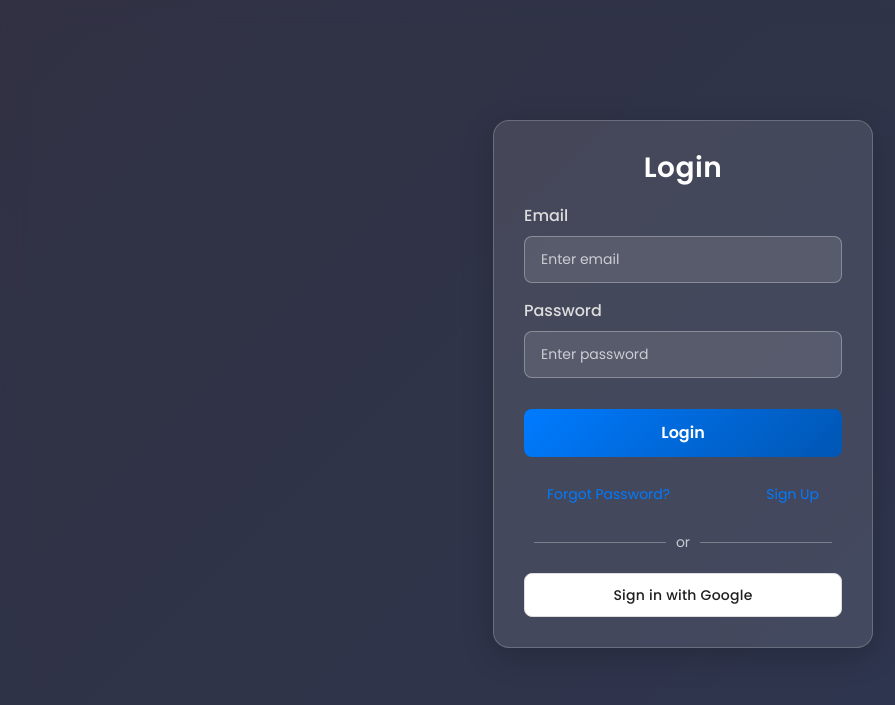
Scenario: Login Component › displays error message on invalid credentials
The image size is (895, 705).
Type "test@example.com" into the field with placeholder "Enter email" at (683, 260), box [524,236,842,283]
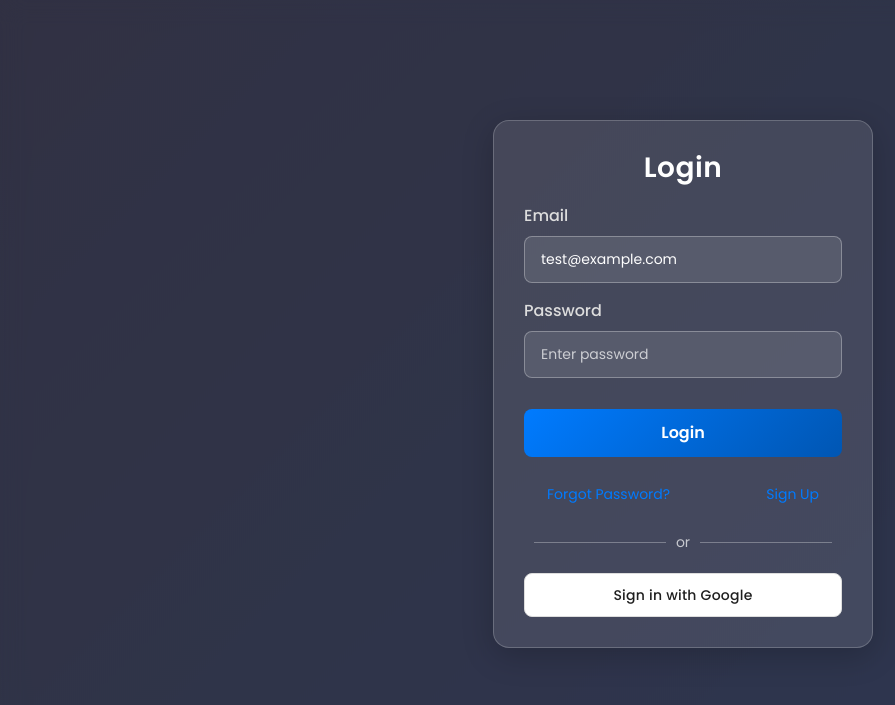
Type "wrongpass" into the password field with placeholder "Enter password" at (683, 355), box [524,331,842,378]
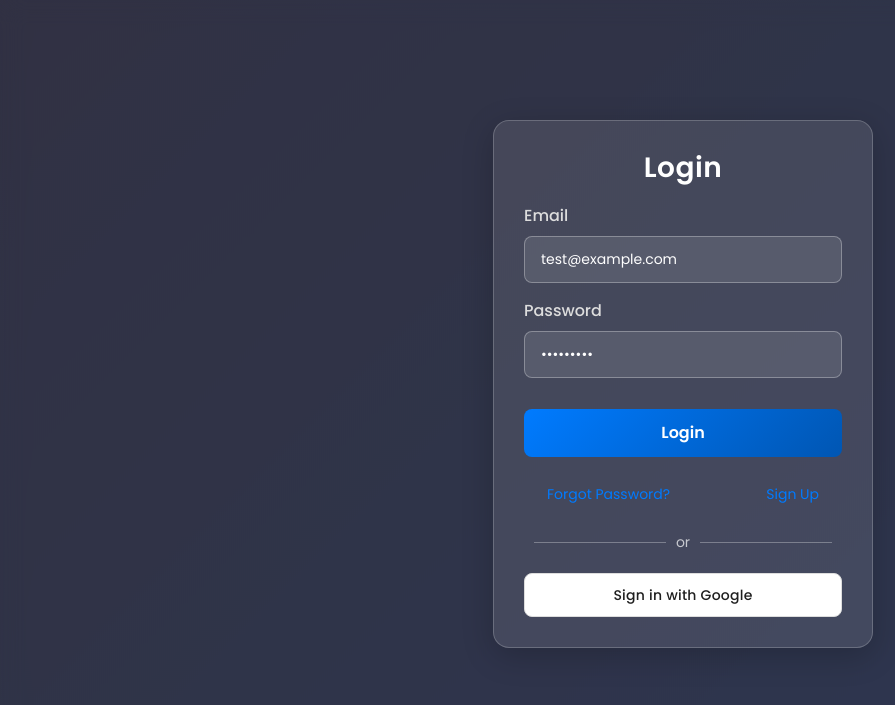
Click the button "Login" at (683, 433), box [524,409,842,457]
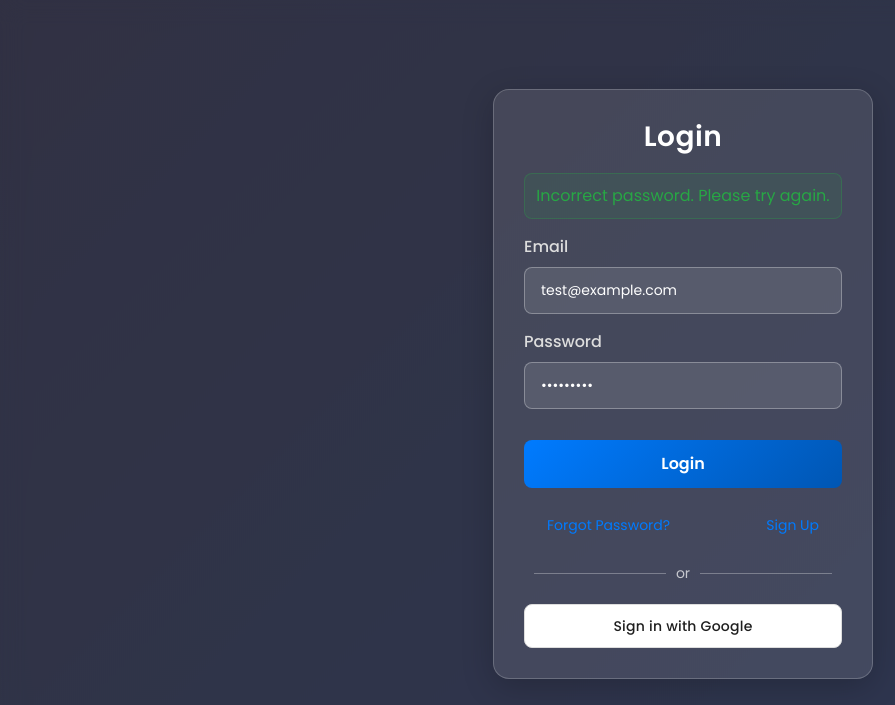
Expected: the text "Incorrect password. Please try again." is shown, [524,173,842,219]
